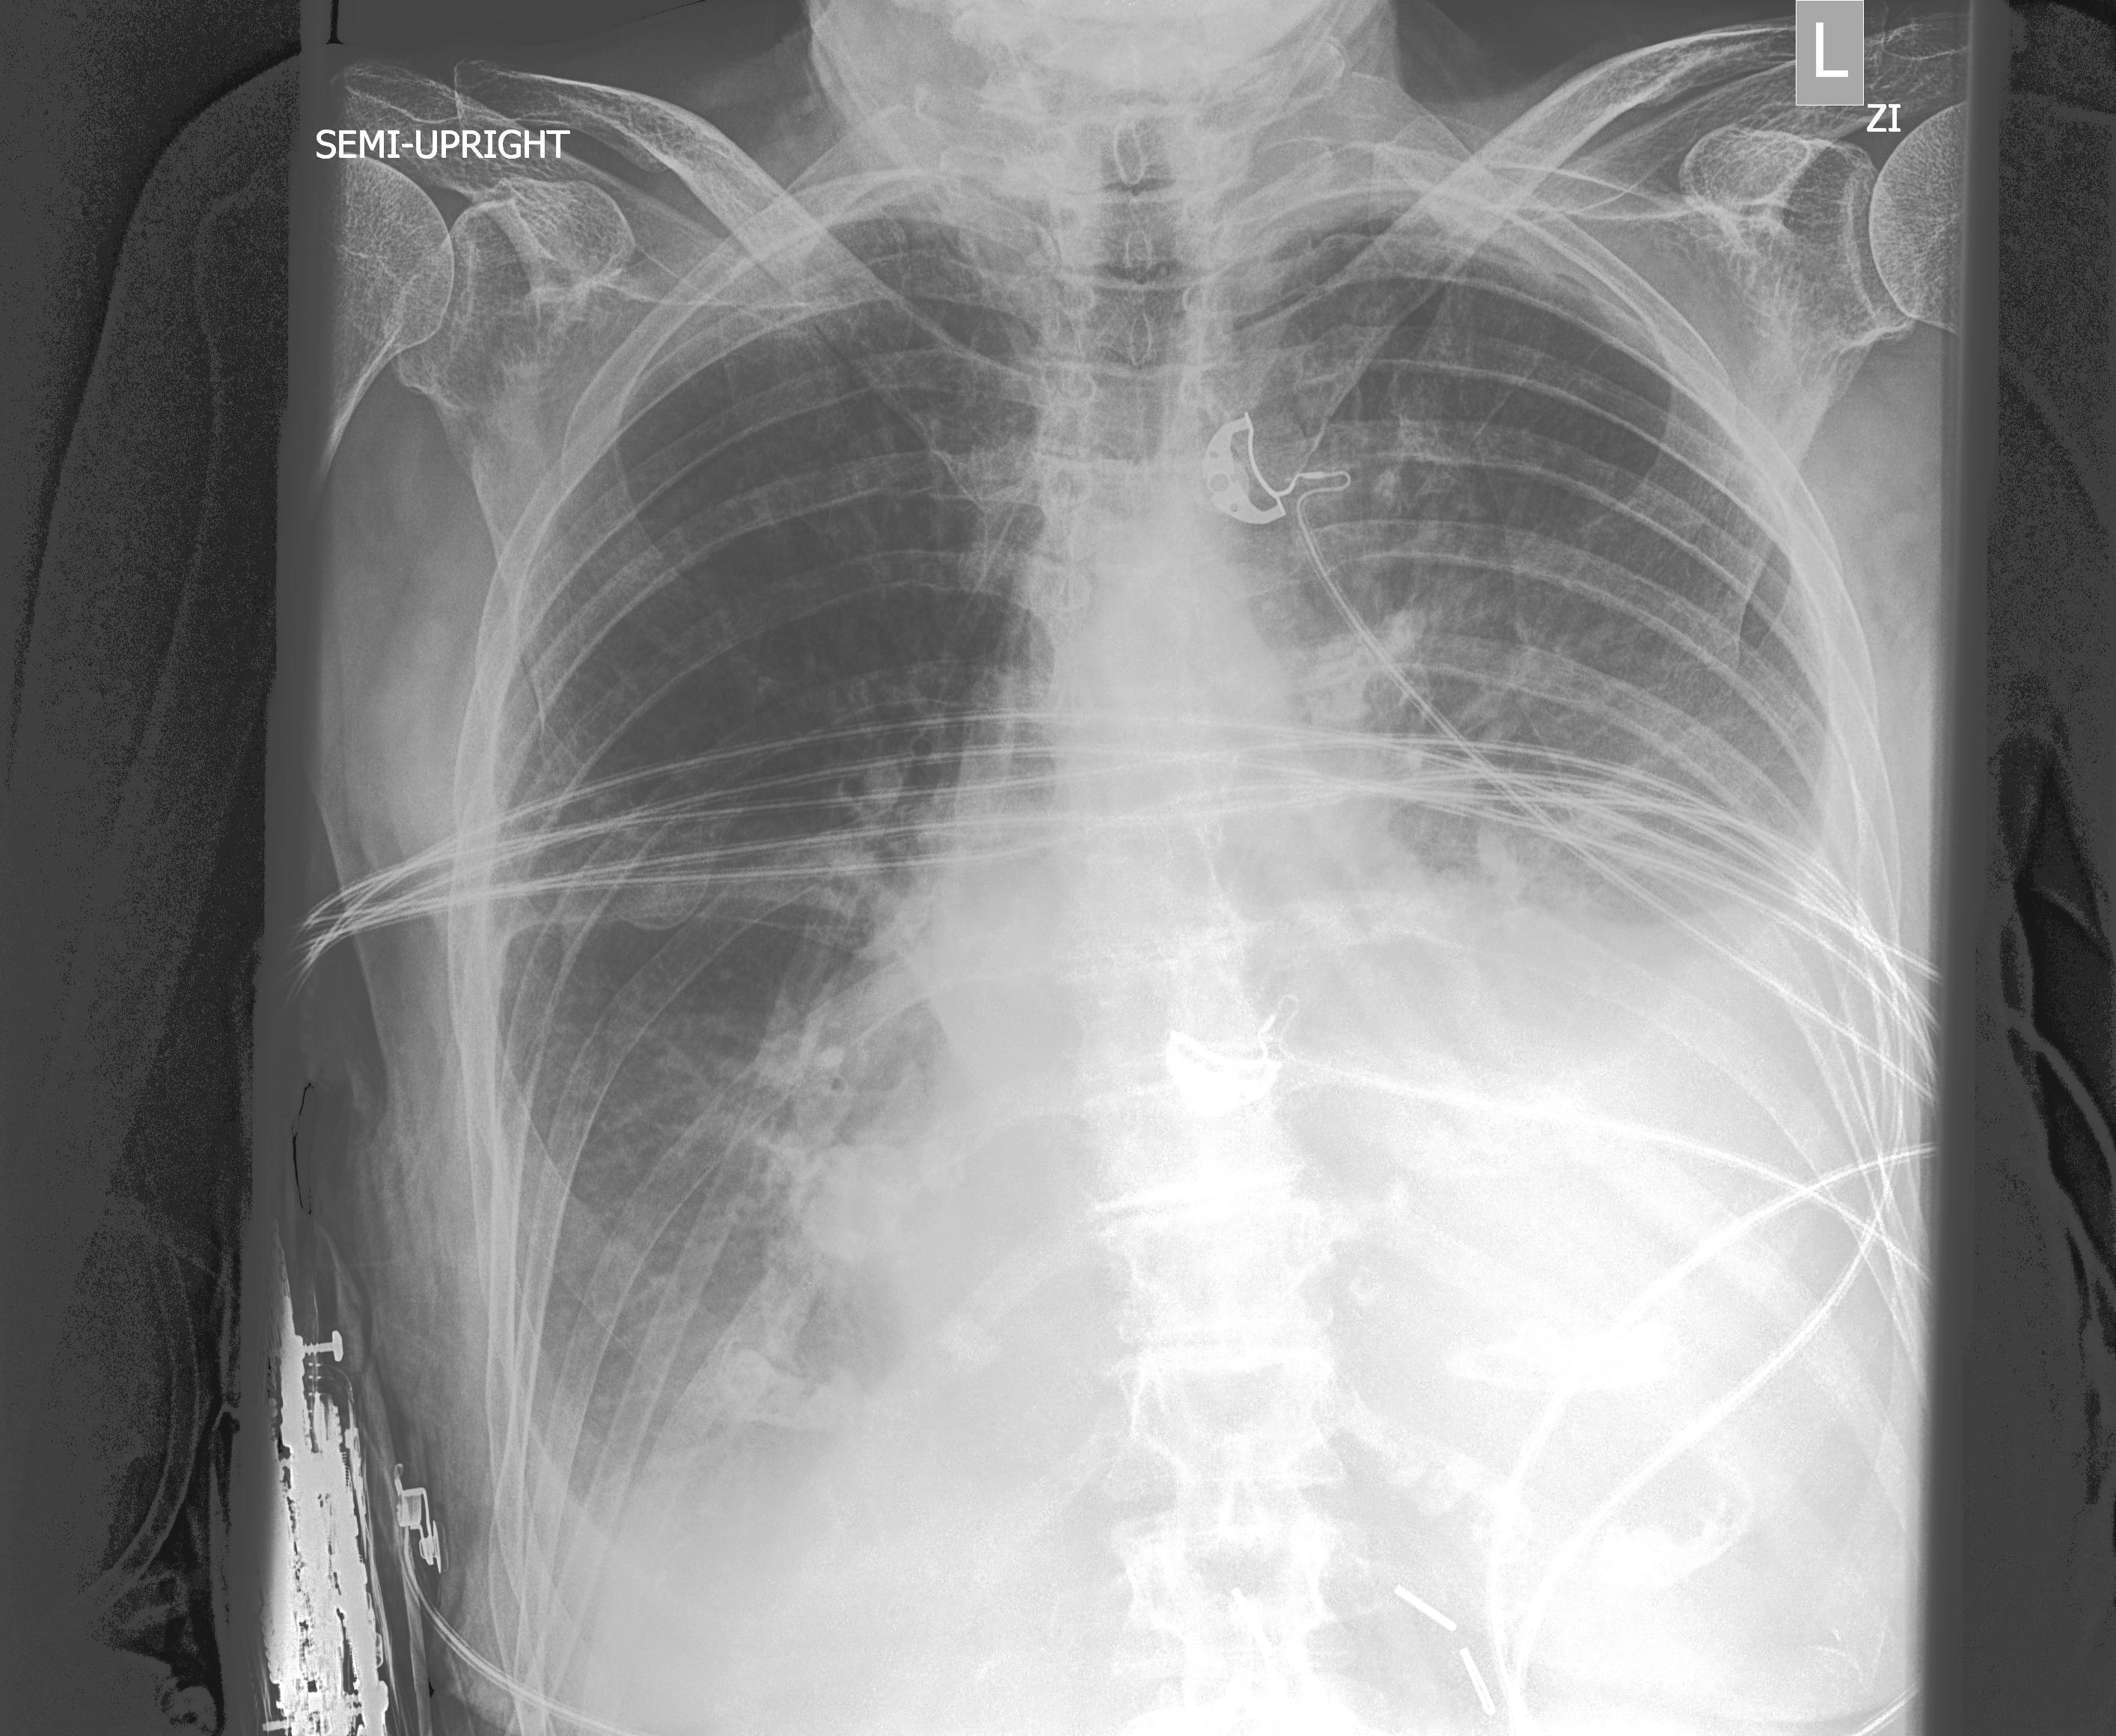Pleural Effusion: (1462, 893, 1960, 1395)
